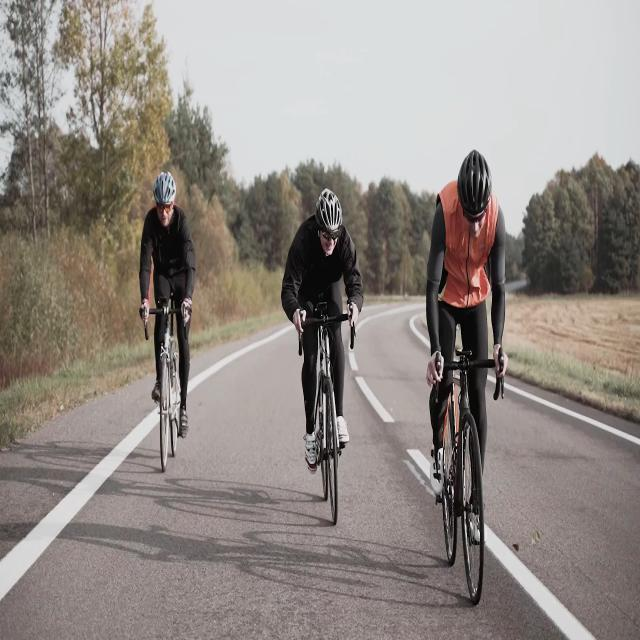Helmet: (450, 143, 499, 243), (310, 180, 348, 262), (148, 165, 185, 231)
bike: (425, 304, 506, 604), (285, 278, 358, 524), (138, 284, 194, 473)
rider: (426, 143, 506, 540), (283, 178, 364, 472), (139, 163, 193, 439)
